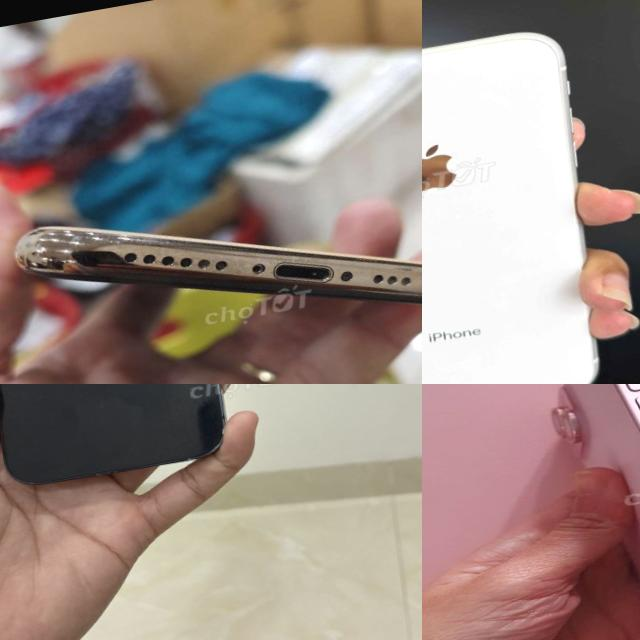gen_11: (15, 226, 422, 304)
gen_12_13: (0, 384, 245, 500)
gen_15: (514, 384, 640, 640)
gen_x_xs: (422, 13, 640, 384)
scratch: (232, 225, 334, 288), (88, 212, 192, 268), (32, 228, 83, 257), (386, 254, 420, 279), (50, 251, 78, 272)
